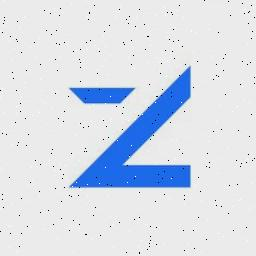z: (64, 62, 196, 196)
